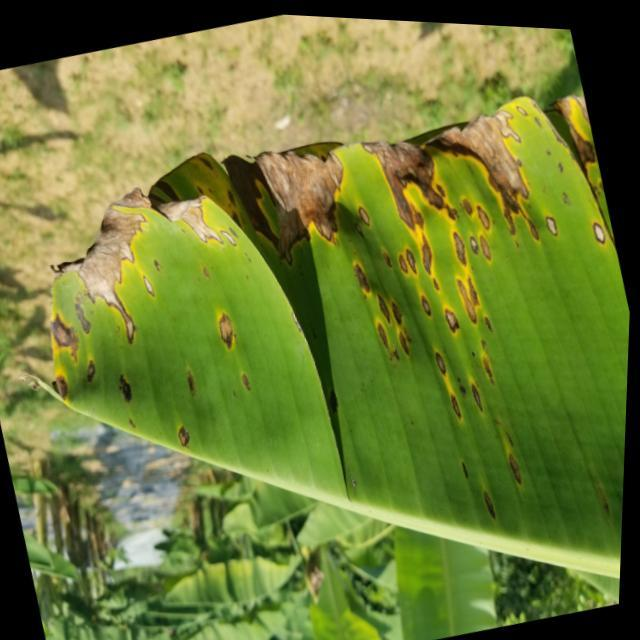Early_rust: (16, 93, 622, 547)
